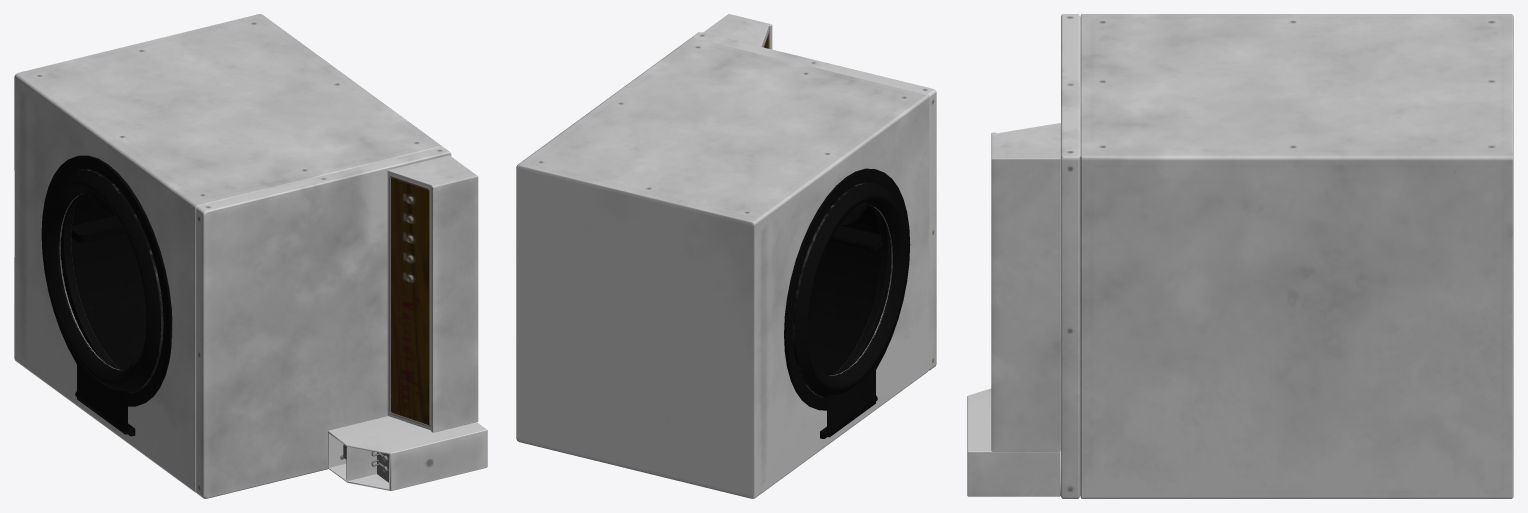
The model's file is washing-machine-4949ac.glb.
The picture shows the model from 3 angles, left to right: view 1: azimuth 30°, elevation 25°; view 2: azimuth 150°, elevation 25°; view 3: azimuth 270°, elevation 25°; orthographic projection. The views are drawn at different scales.
Visible parts, largest first — view 1: PropMesh; view 2: PropMesh; view 3: PropMesh.
Boxes of the visible parts, left/top/right/bottom form: PropMesh: left=14, top=14, right=487, bottom=498; PropMesh: left=516, top=14, right=936, bottom=498; PropMesh: left=967, top=14, right=1513, bottom=498.
Bounding box in the file's own units: 2.08 × 2.2 × 3.18.
Materials: 2 (2 with a texture image).
